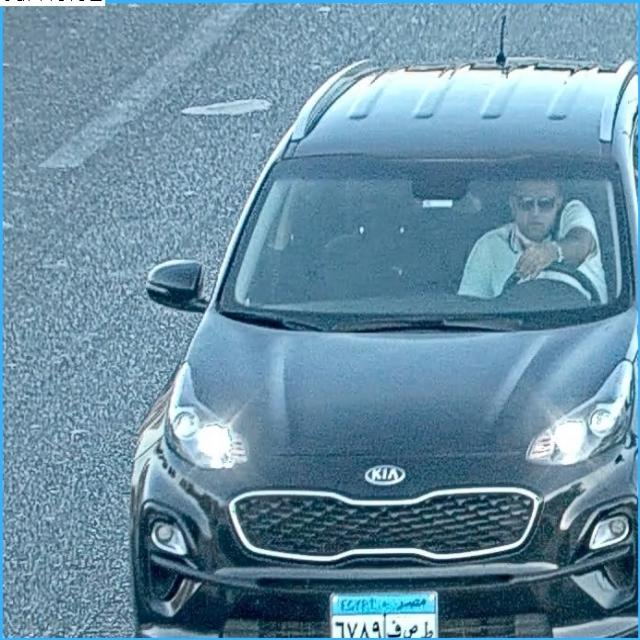windshield: (215, 158, 627, 310)
